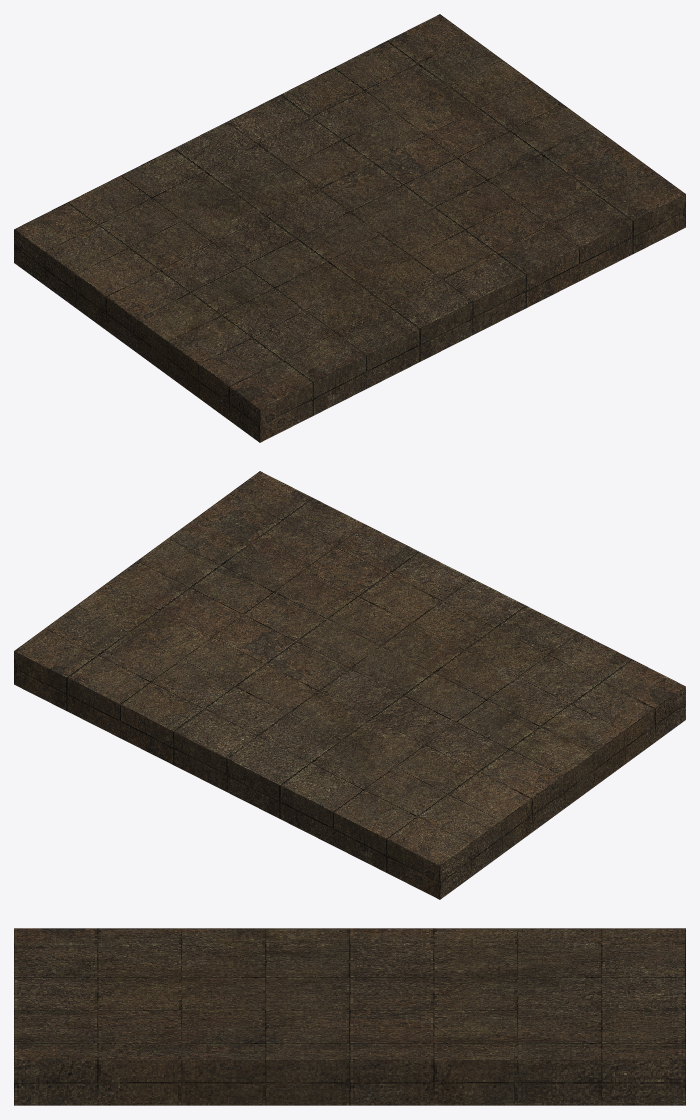
File: floor_ceiling_hs_3.glb
3 renders of one model, top to bottom at view 1: azimuth 30°, elevation 25°; view 2: azimuth 150°, elevation 25°; view 3: azimuth 270°, elevation 25°, orthographic. The views are drawn at different scales.
Visible parts, largest first — view 1: floor_ceiling_hs_3; view 2: floor_ceiling_hs_3; view 3: floor_ceiling_hs_3.
Boxes of the visible parts, <box> form: floor_ceiling_hs_3: <box>14,14,685,442</box>; floor_ceiling_hs_3: <box>14,471,685,899</box>; floor_ceiling_hs_3: <box>14,928,685,1105</box>.
Size of the model in its own units: 4 by 1.3 by 4.
Materials: 1 (1 with a texture image).
